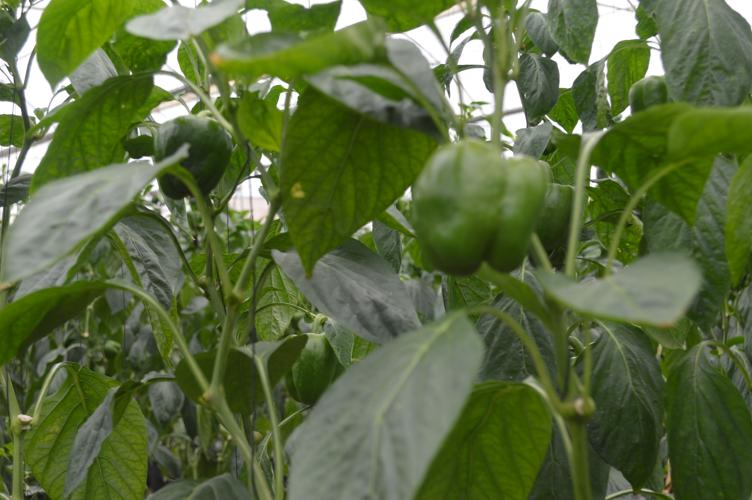BellPepper: (401, 125, 561, 293), (140, 107, 240, 210), (277, 326, 356, 400), (538, 173, 572, 258)
